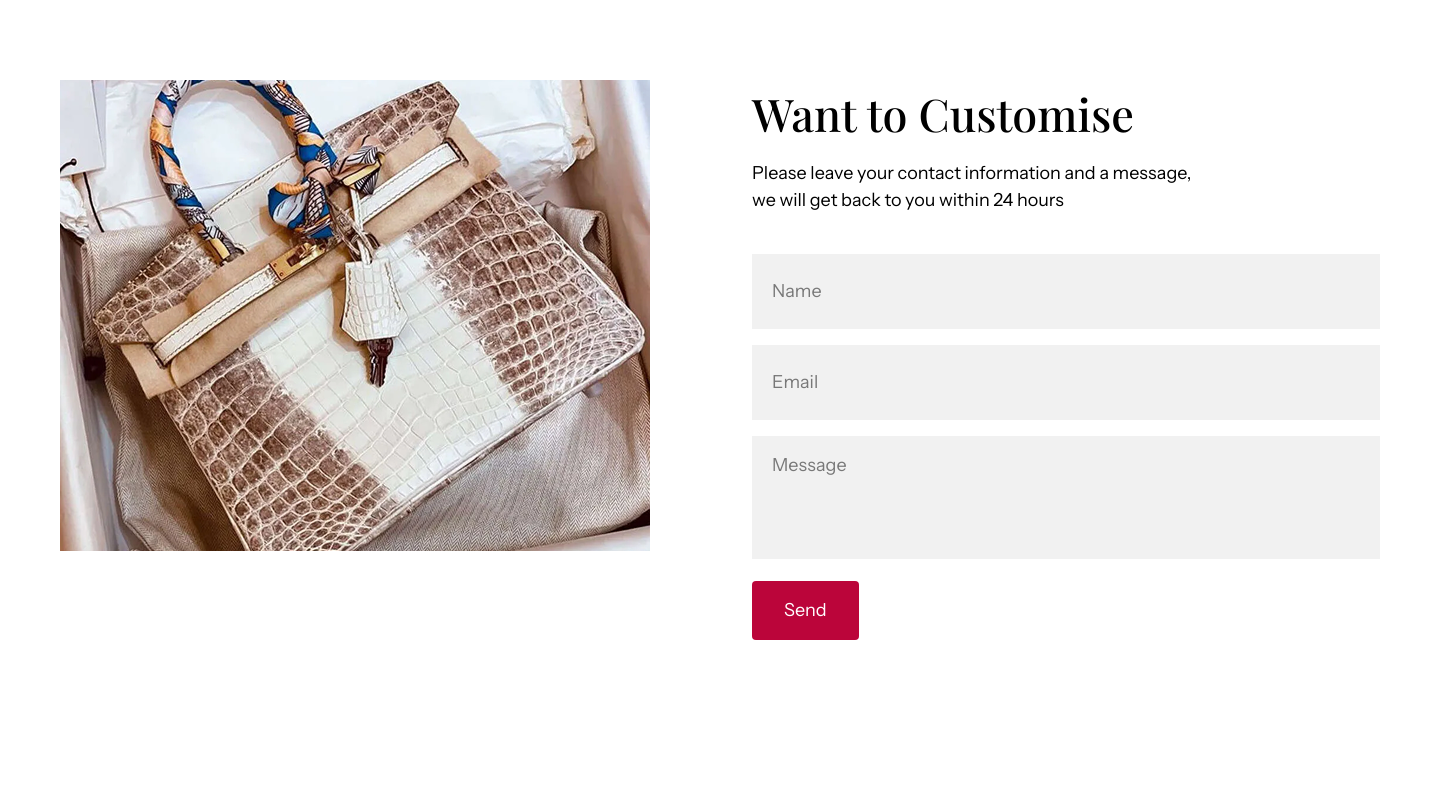
Test: ContactSection › shows validation errors for empty form
Click the button "Send" at {"x": 805, "y": 610}, box [752,580,859,640]
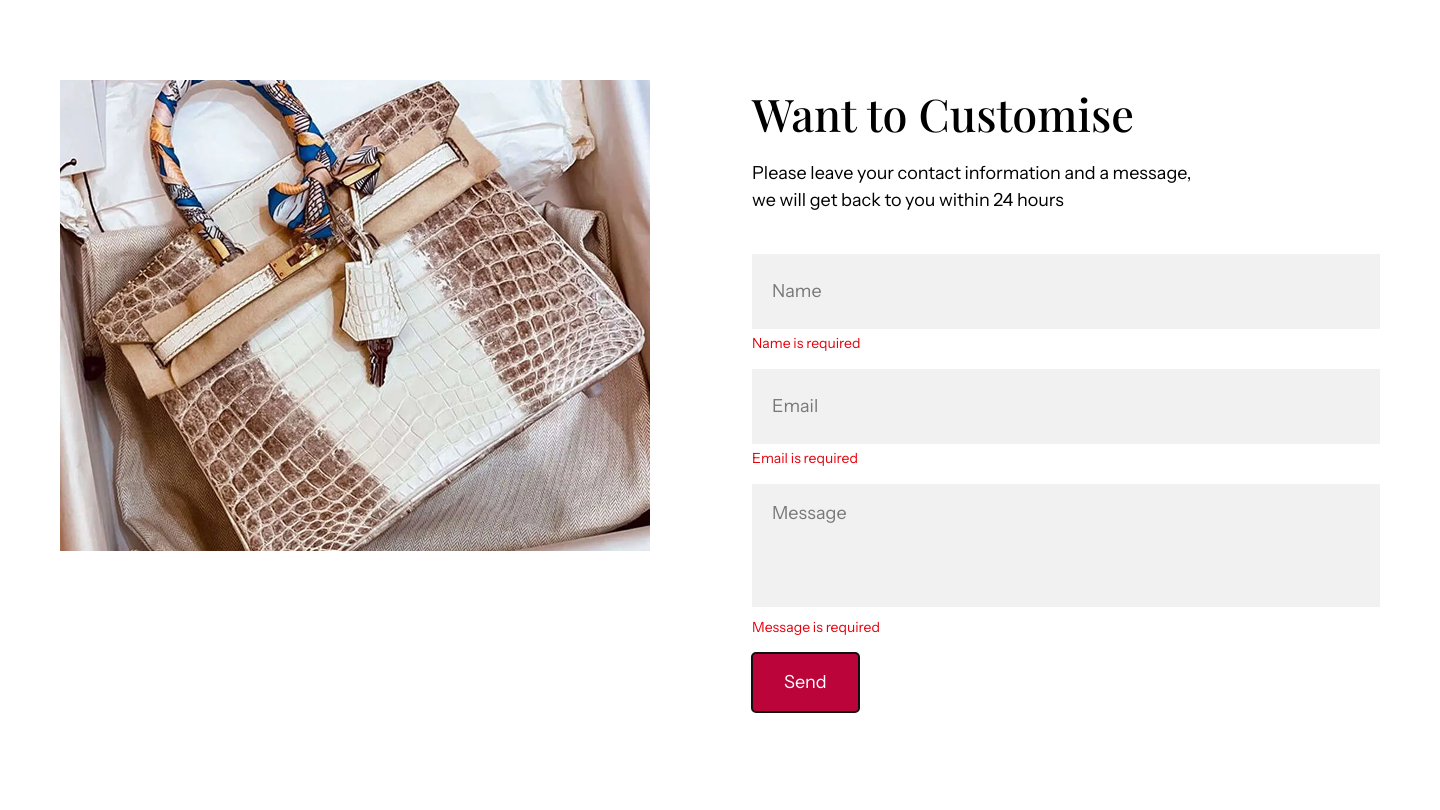
expect the text "Name is required" is shown: met, box [752,334,860,352]
expect the text "Email is required" is shown: met, box [752,448,858,466]
expect the text "Message is required" is shown: met, box [752,618,880,636]
